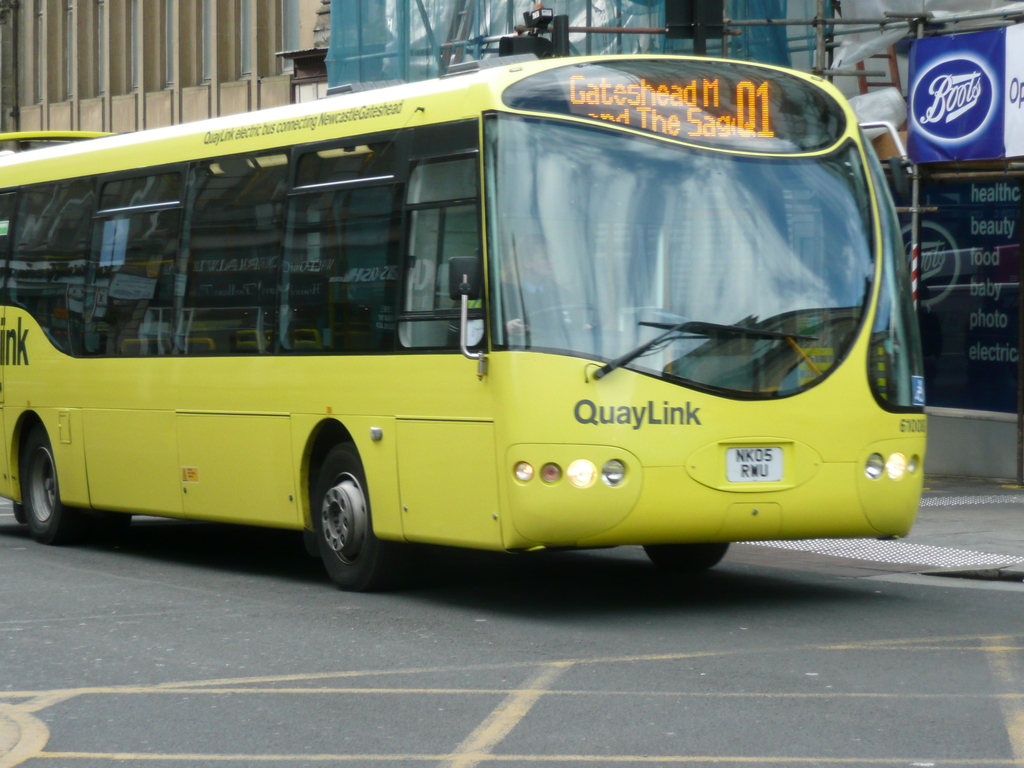Bus: (0, 53, 927, 591)
